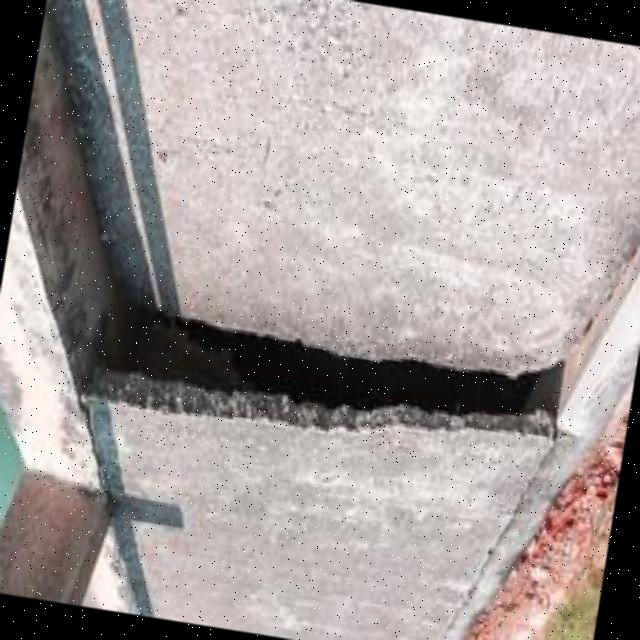road collapse: (35, 0, 640, 559)
